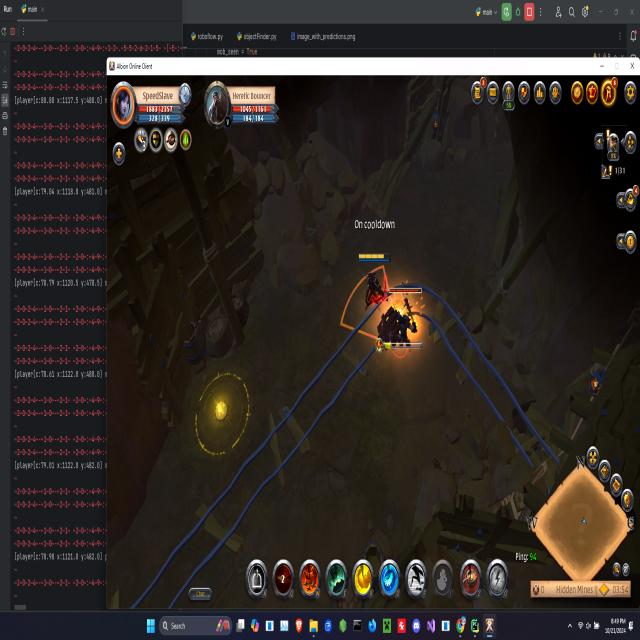ore: (376, 279, 424, 367)
red: (355, 246, 400, 318)
silver: (340, 265, 399, 348)
